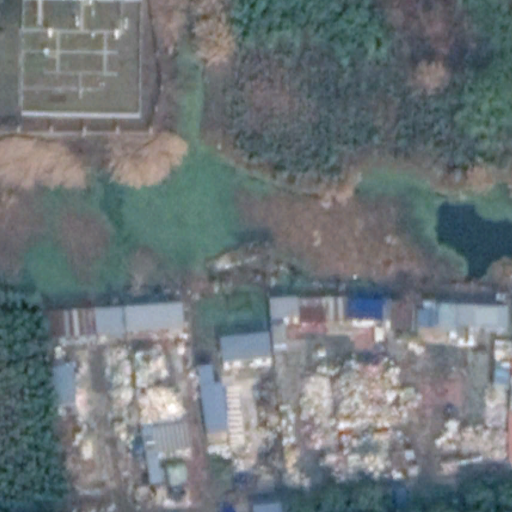msw: (258, 349, 507, 484), (110, 342, 184, 425)
